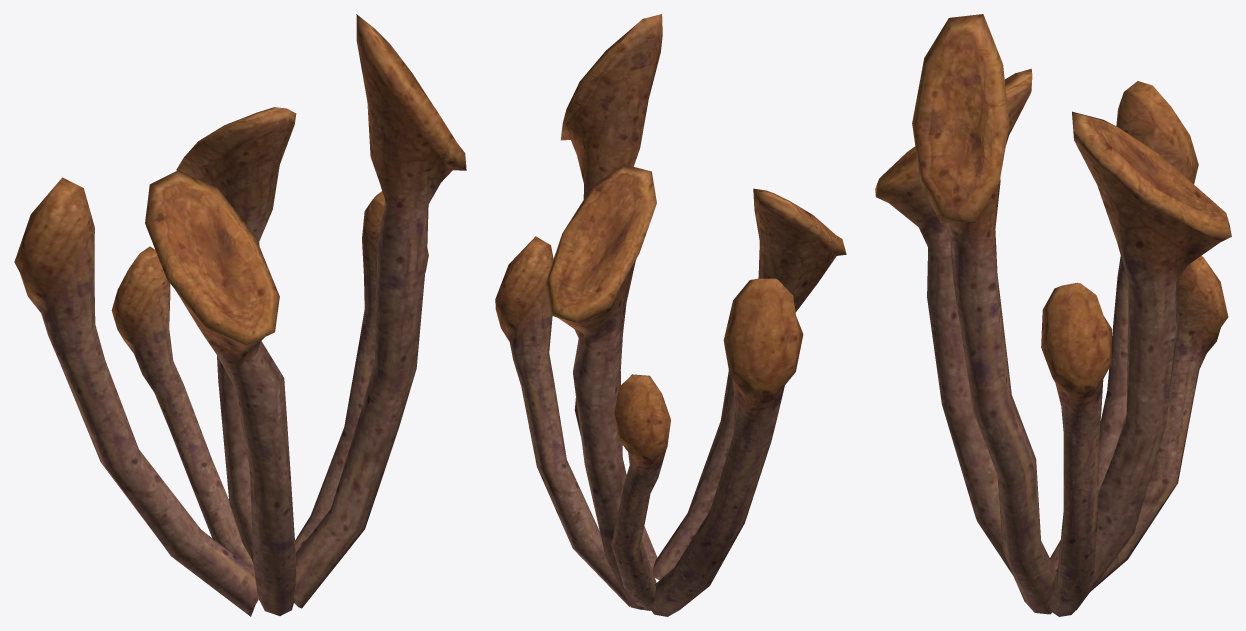
The model's file is Plant - Alien Shroom plant2 3-BmkUes83.glb.
The picture shows the model from 3 angles, left to right: view 1: azimuth 30°, elevation 25°; view 2: azimuth 150°, elevation 25°; view 3: azimuth 270°, elevation 25°; orthographic projection. The views are drawn at different scales.
Visible parts, largest first — view 1: Shroom_Plant2_3_L0(Clone); view 2: Shroom_Plant2_3_L0(Clone); view 3: Shroom_Plant2_3_L0(Clone).
Boxes of the visible parts, x1,y1,x2,y2 form: Shroom_Plant2_3_L0(Clone): [14, 14, 466, 616]; Shroom_Plant2_3_L0(Clone): [495, 14, 846, 616]; Shroom_Plant2_3_L0(Clone): [875, 14, 1231, 616].
Size of the model in its own units: 0.6353 by 1.02 by 0.5318.
Materials: 1 (1 with a texture image).
